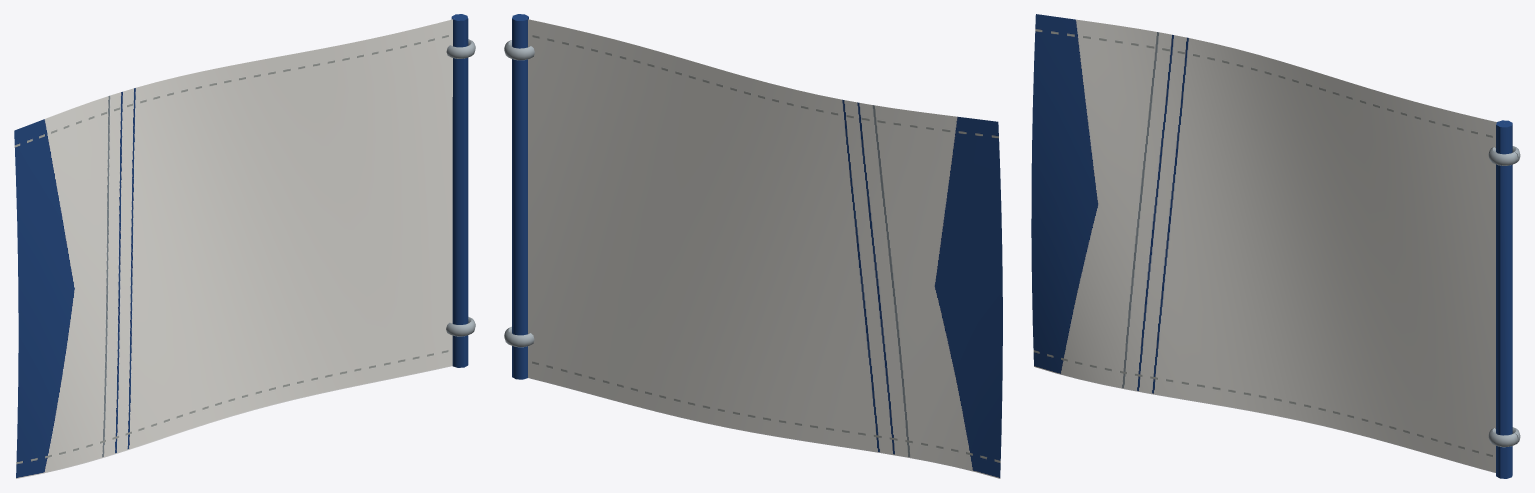
Rendered from Pennant_06_N_青艇・銀引.glb.
The picture shows the model from 3 angles, left to right: view 1: azimuth 30°, elevation 25°; view 2: azimuth 150°, elevation 25°; view 3: azimuth 330°, elevation 25°; orthographic projection. The views are drawn at different scales.
Parts seen in each view (by area): view 1: Pennant_06_N; view 2: Pennant_06_N; view 3: Pennant_06_N.
Boxes of the visible parts, x1,y1,x2,y2 form: Pennant_06_N: (14,14,475,478); Pennant_06_N: (504,14,1002,478); Pennant_06_N: (1031,14,1520,478).
Bounding box in the file's own units: 0.254 × 0.182 × 0.0195.
3 materials, 3 textured.
